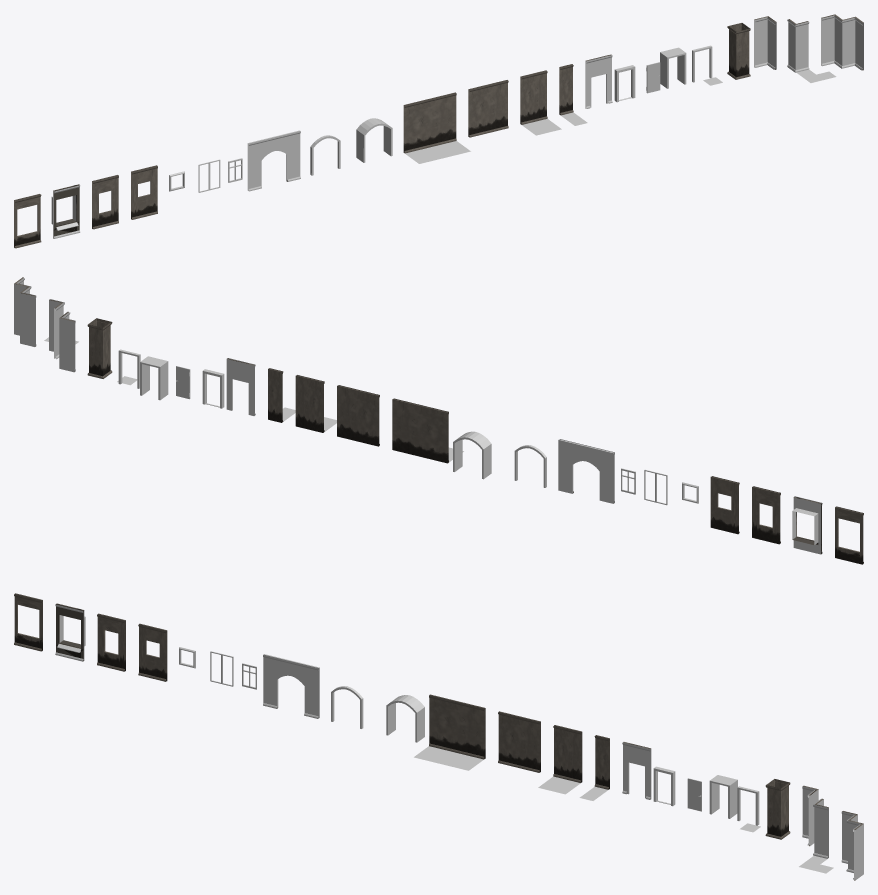
The model's file is LevelDesignSetup1.fbx.
The picture shows the model from 3 angles, top to bottom: view 1: azimuth 30°, elevation 25°; view 2: azimuth 150°, elevation 25°; view 3: azimuth 330°, elevation 25°; orthographic projection. The views are drawn at different scales.
Parts seen in each view (by area): view 1: wall_regular_4m, wall_regular_DoubleCorner, wall_regular_3m, wall_regular_openWay, wall_regular_2m, wall_regular_SmallWindows, wall_regular_pillar, wall_regular_cornerElement_F, wall_regular_MediumWindows, wall_regular_BigWindowsFrame, wall_regular_cornerElement_B, wall_regular_DoorElement (+5 smaller); view 2: wall_regular_4m, wall_regular_3m, wall_regular_openWay, wall_regular_2m, wall_regular_SmallWindows, wall_regular_pillar, wall_regular_MediumWindows, wall_regular_DoubleCorner, wall_regular_BigWindowsFrame, wall_regular_DoorElement, wall_regular_BigWindows, wall_regular_cornerElement_F (+4 smaller); view 3: wall_regular_4m, wall_regular_3m, wall_regular_openWay, wall_regular_2m, wall_regular_SmallWindows, wall_regular_pillar, wall_regular_MediumWindows, wall_regular_DoubleCorner, wall_regular_BigWindowsFrame, wall_regular_DoorElement, wall_regular_BigWindows, wall_regular_BeveledHallway (+5 smaller).
Part boxes in pixels (x1=…): wall_regular_4m: x1=403, y1=92, x2=456, y2=153; wall_regular_DoubleCorner: x1=821, y1=14, x2=863, y2=70; wall_regular_3m: x1=468, y1=80, x2=508, y2=137; wall_regular_openWay: x1=247, y1=130, x2=300, y2=191; wall_regular_2m: x1=520, y1=70, x2=547, y2=124; wall_regular_SmallWindows: x1=131, y1=165, x2=157, y2=219; wall_regular_pillar: x1=727, y1=23, x2=750, y2=79; wall_regular_cornerElement_F: x1=754, y1=16, x2=776, y2=69; wall_regular_MediumWindows: x1=92, y1=175, x2=118, y2=229; wall_regular_BigWindowsFrame: x1=51, y1=184, x2=80, y2=238; wall_regular_cornerElement_B: x1=787, y1=19, x2=809, y2=72; wall_regular_DoorElement: x1=585, y1=54, x2=612, y2=108; wall_regular_4m: x1=392, y1=398, x2=448, y2=463; wall_regular_3m: x1=337, y1=385, x2=379, y2=446; wall_regular_openWay: x1=558, y1=439, x2=614, y2=503; wall_regular_2m: x1=295, y1=375, x2=324, y2=432; wall_regular_SmallWindows: x1=710, y1=476, x2=739, y2=534; wall_regular_pillar: x1=87, y1=318, x2=112, y2=378; wall_regular_MediumWindows: x1=752, y1=486, x2=780, y2=544; wall_regular_DoubleCorner: x1=14, y1=277, x2=36, y2=346; wall_regular_BigWindowsFrame: x1=792, y1=496, x2=822, y2=554; wall_regular_DoorElement: x1=226, y1=358, x2=255, y2=415; wall_regular_BigWindows: x1=835, y1=506, x2=863, y2=564; wall_regular_cornerElement_F: x1=59, y1=311, x2=75, y2=372; wall_regular_4m: x1=429, y1=694, x2=485, y2=759; wall_regular_3m: x1=498, y1=711, x2=540, y2=772; wall_regular_openWay: x1=263, y1=654, x2=319, y2=718; wall_regular_2m: x1=553, y1=725, x2=582, y2=782; wall_regular_SmallWindows: x1=138, y1=623, x2=167, y2=681; wall_regular_pillar: x1=765, y1=779, x2=790, y2=839; wall_regular_MediumWindows: x1=97, y1=613, x2=125, y2=671; wall_regular_DoubleCorner: x1=841, y1=811, x2=863, y2=880; wall_regular_BigWindowsFrame: x1=55, y1=603, x2=85, y2=661; wall_regular_DoorElement: x1=622, y1=742, x2=651, y2=799; wall_regular_BigWindows: x1=14, y1=593, x2=42, y2=651; wall_regular_BeveledHallway: x1=386, y1=695, x2=424, y2=742.
Size of the model in its own units: 63.1 by 3.5 by 5.
